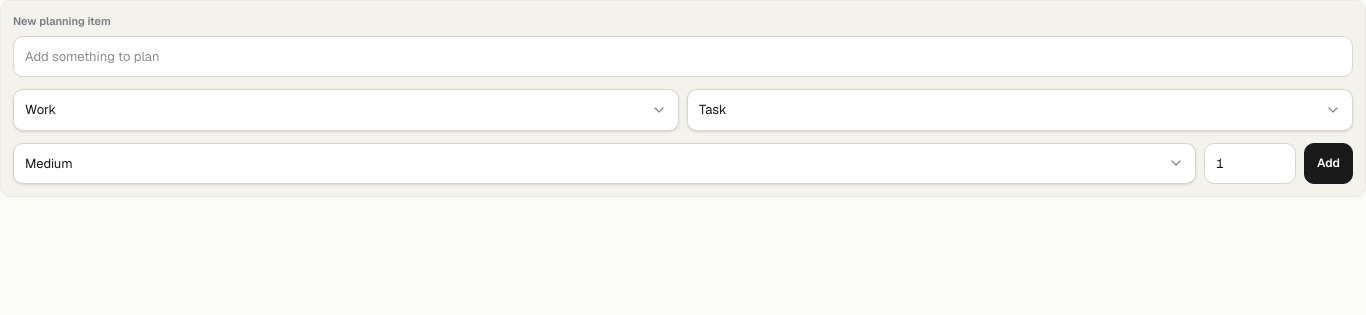
Test: AddItemForm › should open priority dropdown and show options
Click the dropdown named "Priority": [49, 163] box [13,142,1196,184]
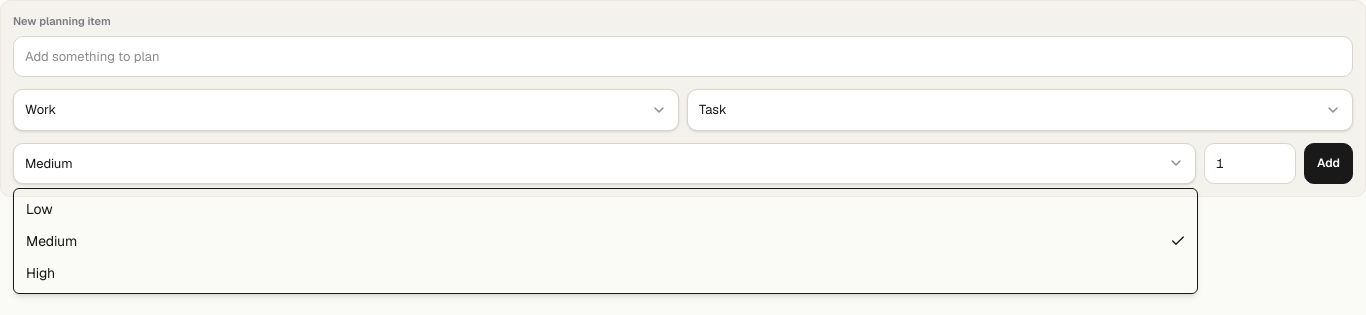
Expected: the option "Low" is shown, [26,200,53,218]
Expected: the option "Medium" is shown, [26,232,1186,250]
Expected: the option "High" is shown, [26,264,55,282]
